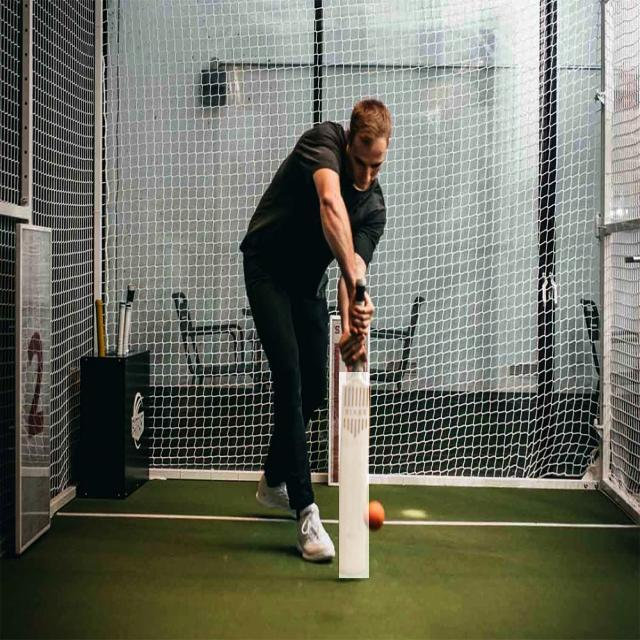bat: (340, 371, 369, 577)
toe: (335, 568, 372, 586)
